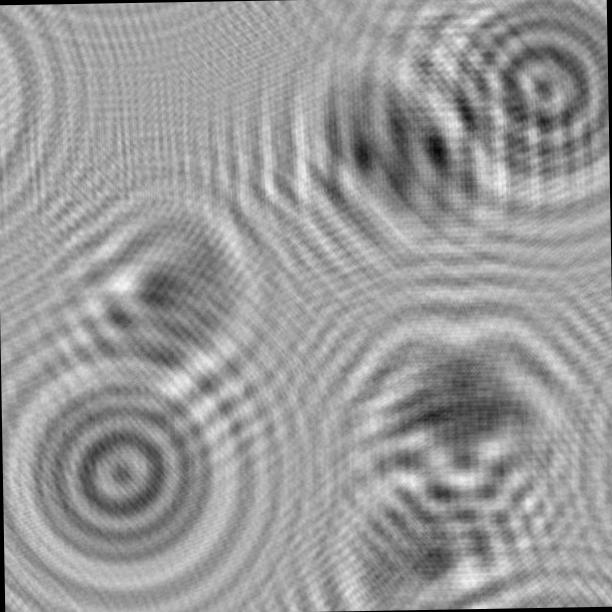K: (301, 289, 591, 520)
L: (0, 163, 293, 429), (290, 445, 553, 612)
N: (226, 23, 506, 280)
O: (0, 337, 263, 612), (414, 0, 610, 236)
